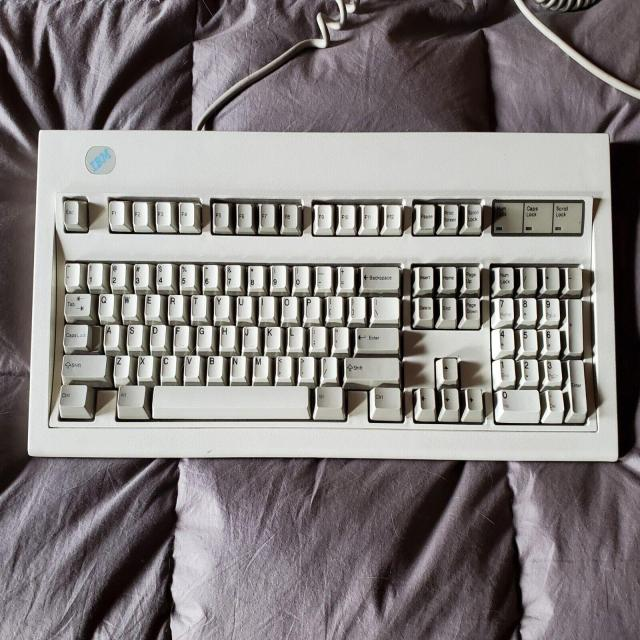keyboard: (23, 126, 621, 466)
